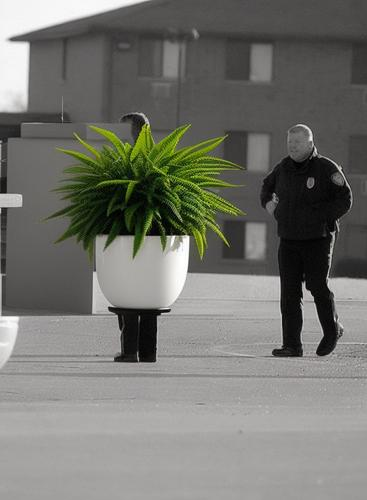person: (259, 124, 355, 359), (89, 111, 165, 366)
person/foot: (315, 326, 344, 356), (272, 345, 304, 358), (114, 354, 138, 363), (138, 355, 157, 363)
person/hand: (90, 228, 107, 252), (266, 201, 277, 216)
person/head: (117, 112, 151, 147), (286, 126, 311, 160)
pottedplant: (1, 124, 247, 315)
